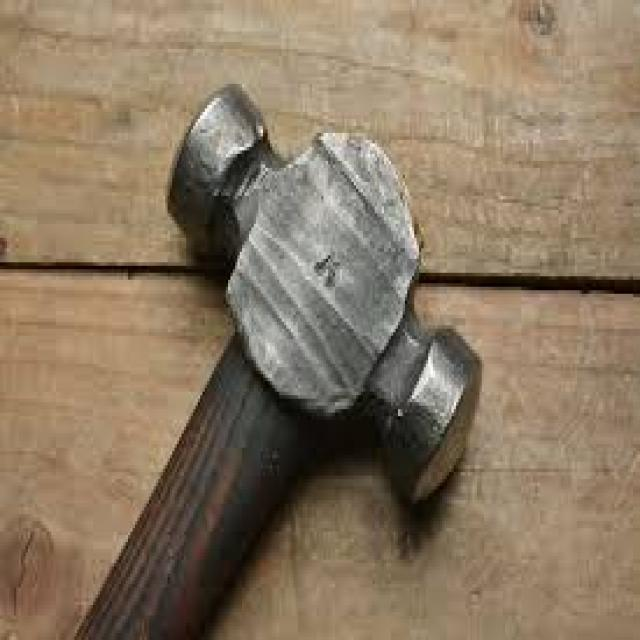hammer: (70, 73, 487, 640)
